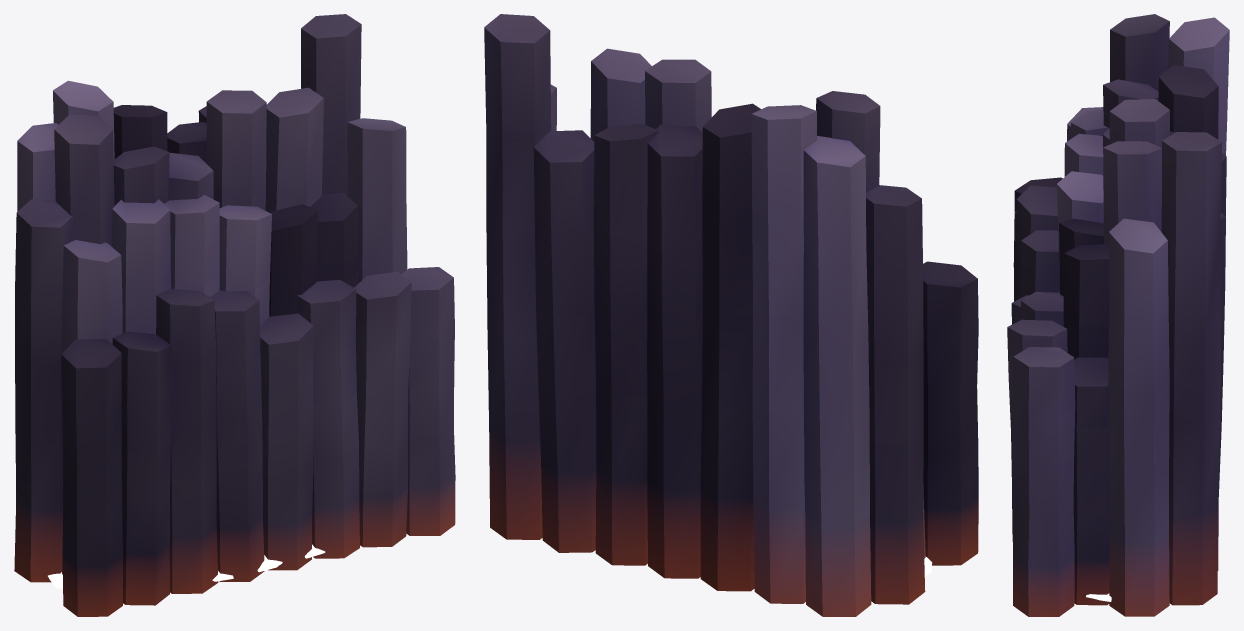
Rendered from ember_cliff_basalt_b.glb.
3 views of the same model, side by side, from view 1: azimuth 30°, elevation 25°; view 2: azimuth 150°, elevation 25°; view 3: azimuth 270°, elevation 25° (orthographic). The views are drawn at different scales.
Visible parts, largest first — view 1: ember_cliff_basalt_b; view 2: ember_cliff_basalt_b; view 3: ember_cliff_basalt_b.
Part boxes in pixels (<box>): ember_cliff_basalt_b: <box>14,14,455,616</box>; ember_cliff_basalt_b: <box>484,14,978,616</box>; ember_cliff_basalt_b: <box>1007,14,1229,616</box>.
Bounding box in the file's own units: 15.22 × 17.61 × 7.68.
